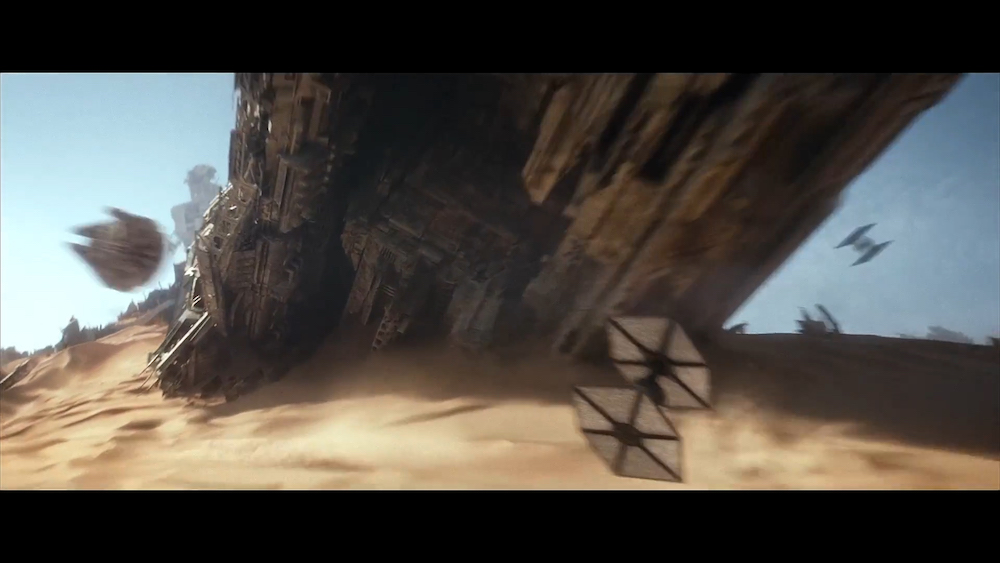Millennium Falcon: (67, 206, 164, 295)
Tie Fighter: (574, 313, 714, 485), (834, 224, 895, 267)
